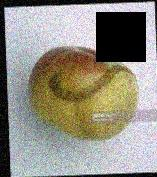rotten apple: (25, 40, 143, 143)
